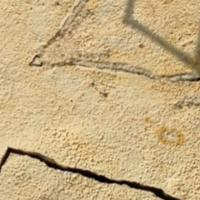crack: (1, 124, 194, 199)
